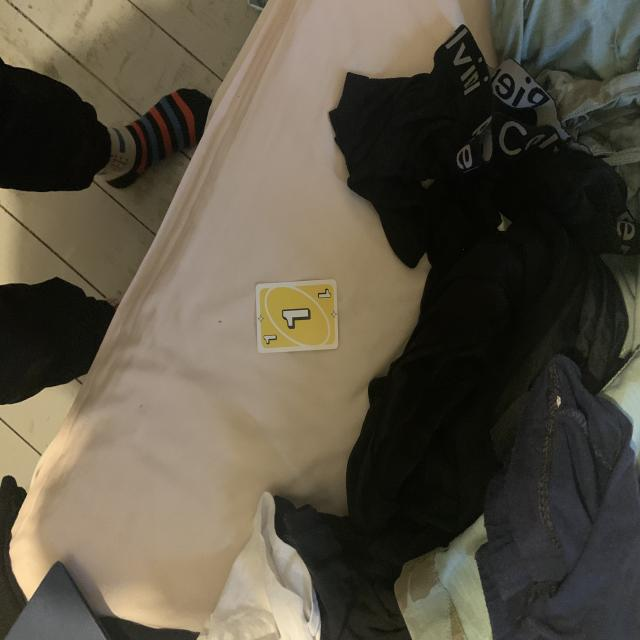lyellow-1: (314, 284, 334, 304)
